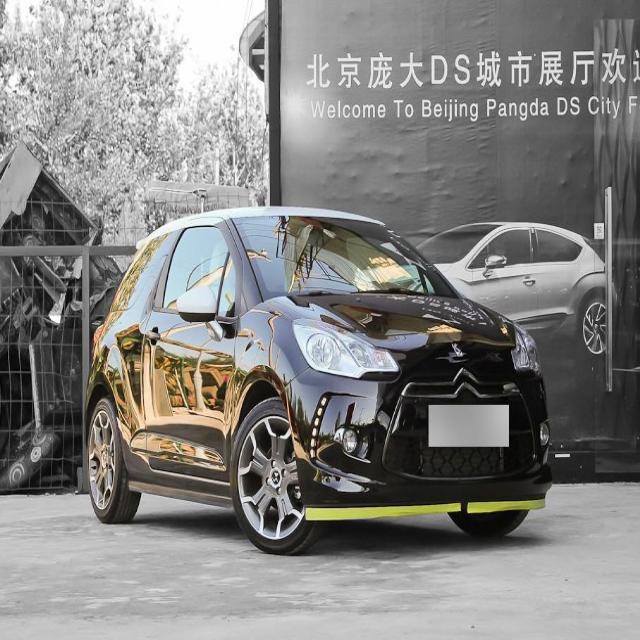front_bumper: (283, 364, 552, 502)
front_glass: (232, 214, 458, 300)
front_left_side_light: (509, 322, 544, 372)
front_right_side_door: (140, 210, 244, 492)
front_right_side_light: (288, 312, 401, 380)
front_right_side_mirror: (175, 281, 222, 331)
wheel: (231, 400, 315, 551), (86, 398, 137, 524)
